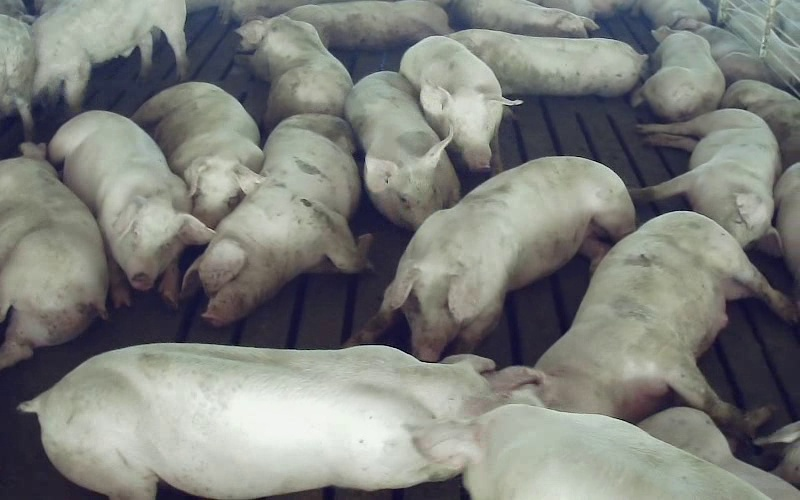pig: (20, 343, 495, 499), (490, 212, 794, 433), (351, 157, 634, 360), (184, 114, 369, 325), (415, 404, 768, 499), (48, 111, 212, 306), (0, 143, 107, 368), (631, 109, 780, 254), (132, 83, 263, 227), (345, 71, 459, 229), (33, 0, 186, 111), (400, 36, 521, 171), (237, 15, 352, 129), (449, 29, 646, 95), (631, 26, 724, 121), (286, 0, 450, 48), (448, 0, 598, 37)
